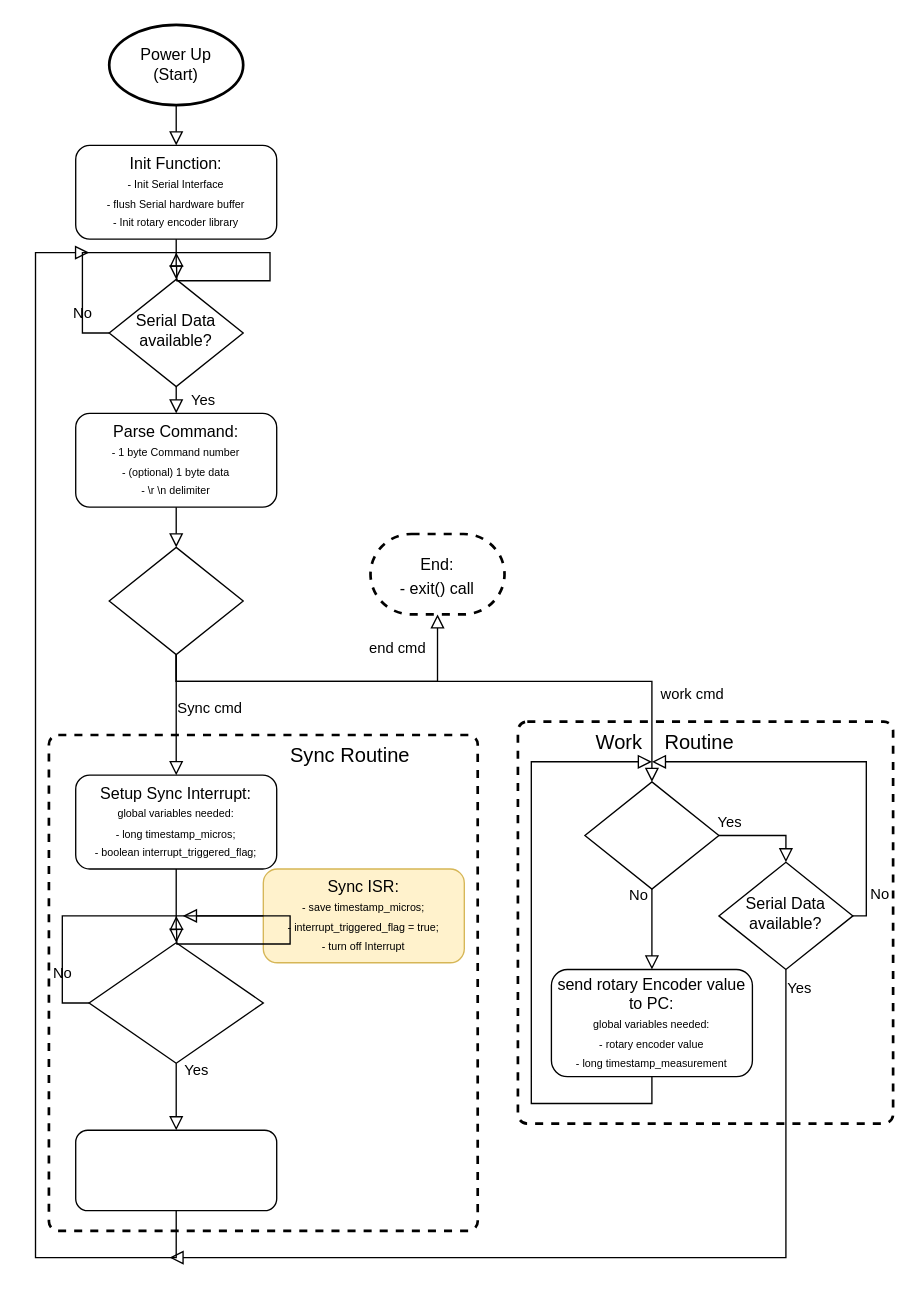
Some shapes in this 918 by 1294 pixel diagram are drawn without their labels. Here are the shapes that lost their labels. From the top down, the centre of each, then its label:
the point at 175,600: Command Switch
the point at 651,835: t_check zeit vergangen?
the point at 175,1002: interrupt_ triggered_flag == true?
the point at 175,1170: Send Sync Data to PC: global variables needed: - long timestamp_micros;
